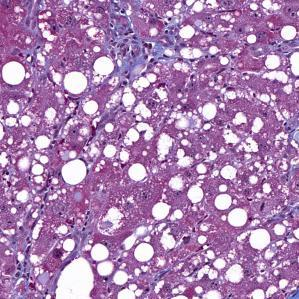fibrosis: (109, 21, 176, 72)
